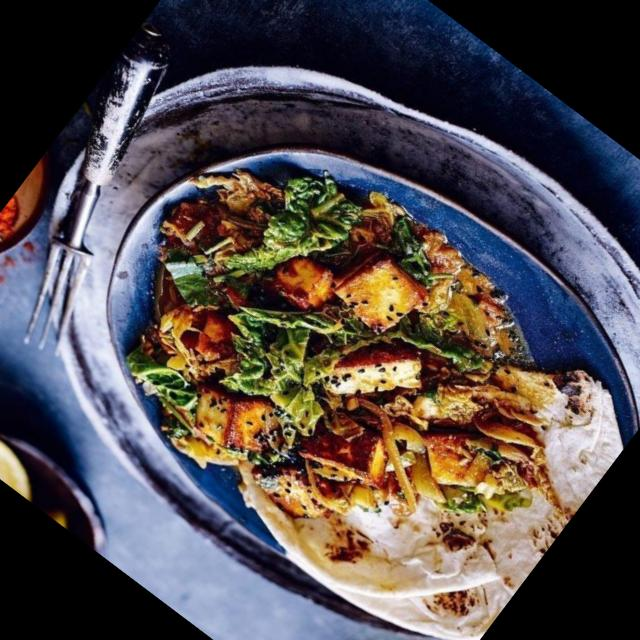roti: (304, 489, 507, 640)
